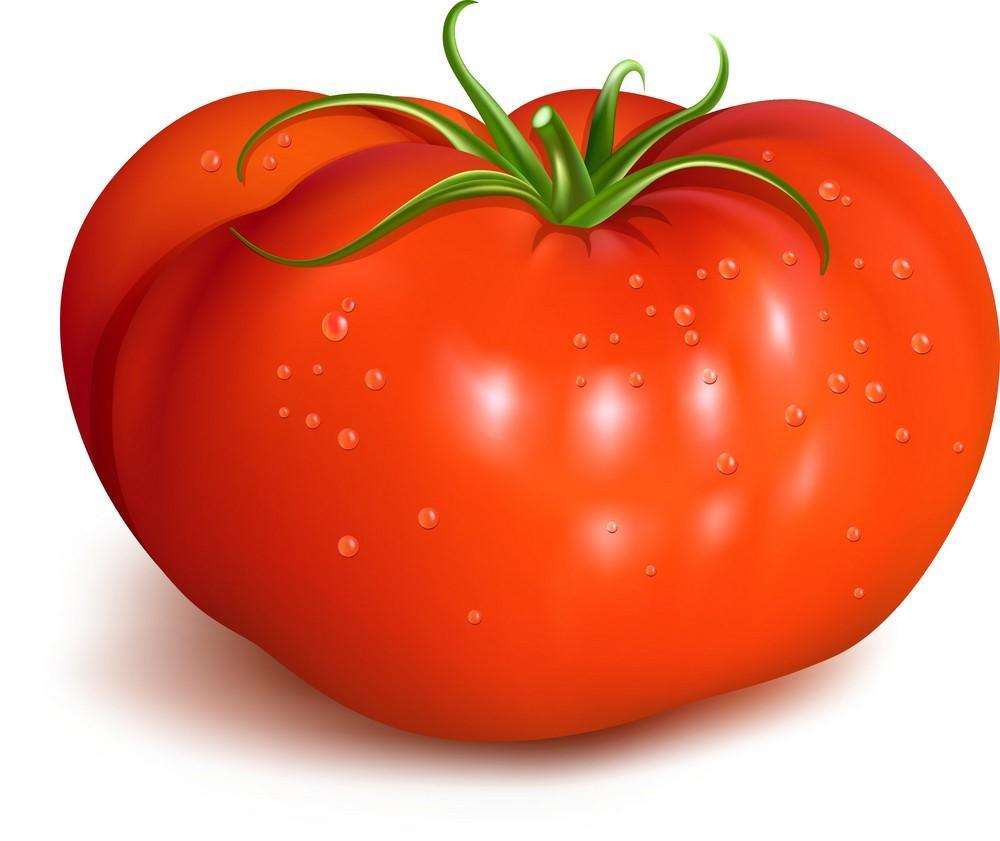healthy-tomato: (60, 63, 1000, 748)
